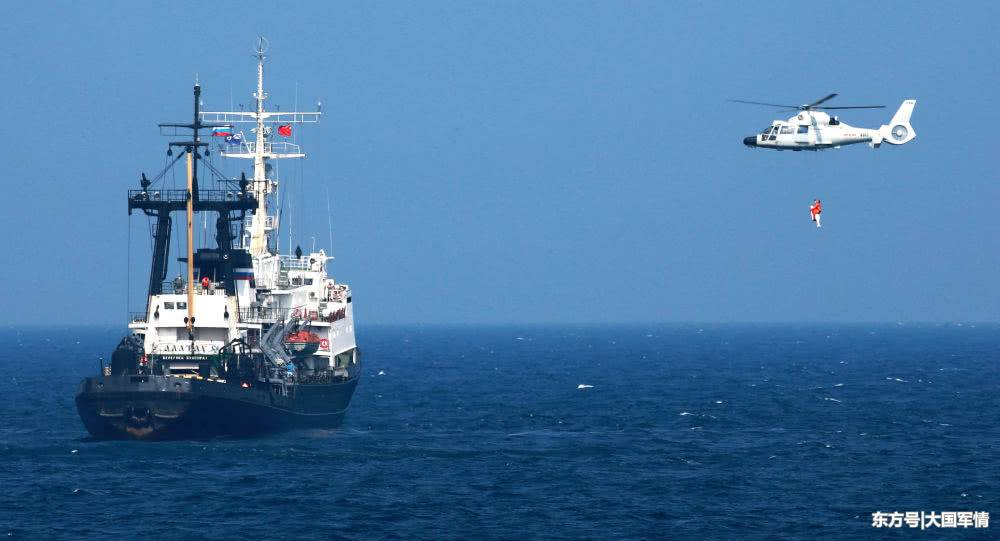airplane: (73, 76, 365, 434), (742, 84, 930, 155)
